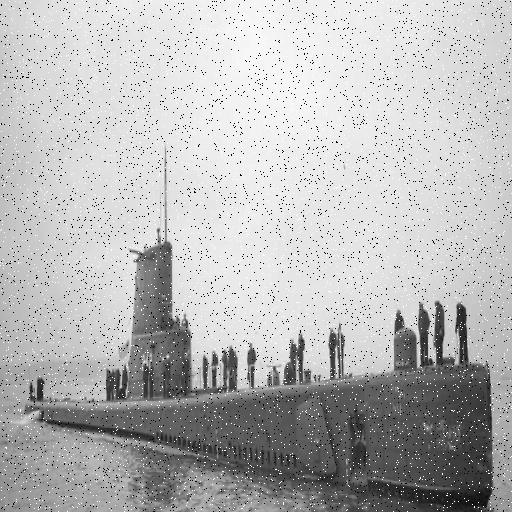submarine: (26, 244, 496, 505)
